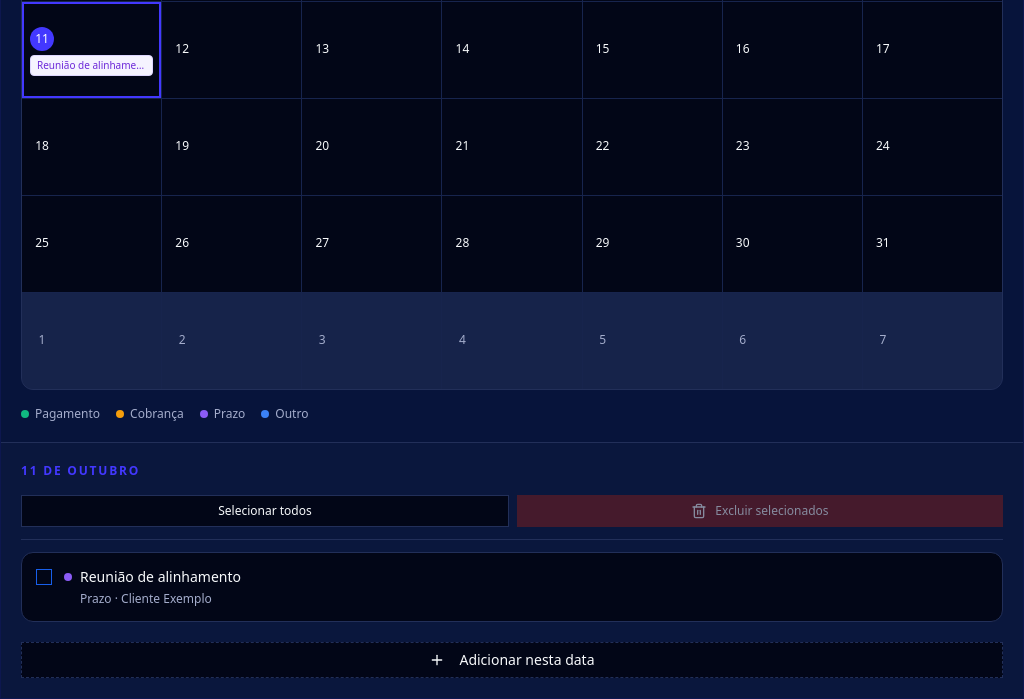
calendário do dashboard › permite visualizar e editar um evento
Later steps or results of the test are not shown.
(page scrolled)
Click the 2nd text "Reunião de alinhamento" at (160, 577), box x1=80 y1=567 x2=241 y2=587
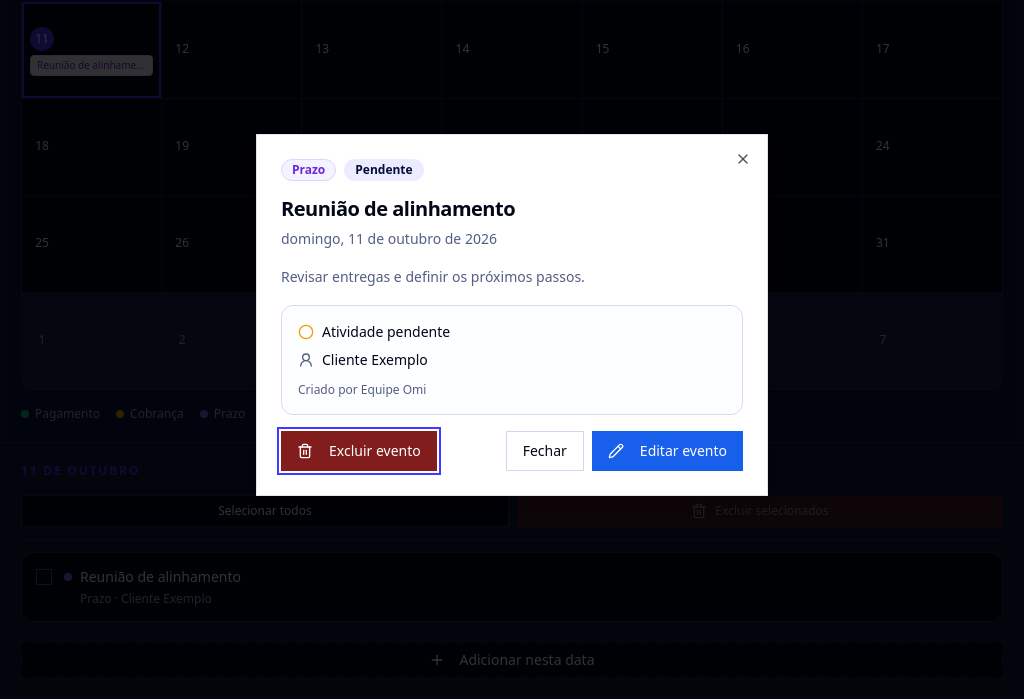
Now the text "Revisar entregas e definir os próximos passos." is shown, box x1=281 y1=267 x2=585 y2=286
Now the text "Cliente Exemplo" is shown, box x1=322 y1=350 x2=428 y2=370
